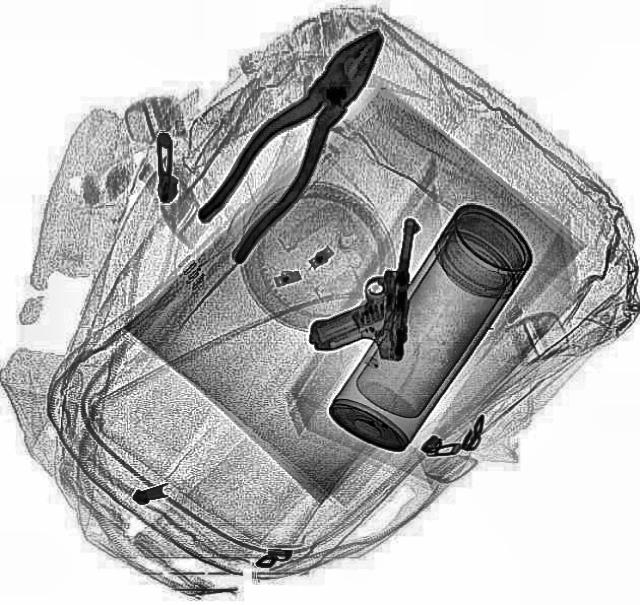Gun: (306, 212, 419, 360)
Pliers: (178, 11, 412, 267)
